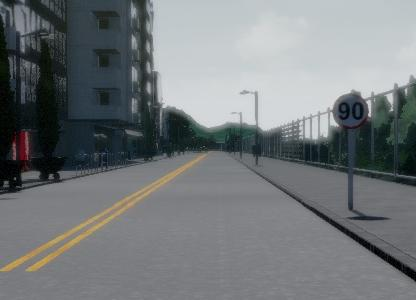Speed_90: (333, 90, 371, 130)
